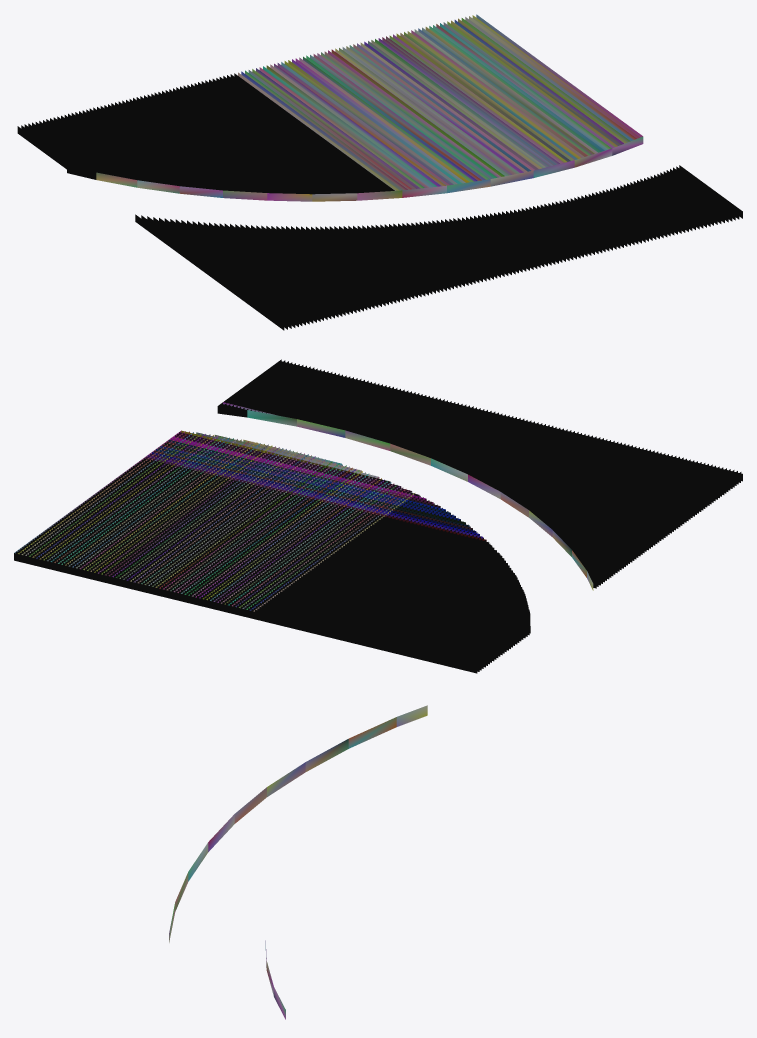
File: Grass_17.gltf
3 renders of one model, top to bottom at view 1: azimuth 30°, elevation 25°; view 2: azimuth 150°, elevation 25°; view 3: azimuth 270°, elevation 25°, orthographic. The views are drawn at different scales.
Parts seen in each view (by area): view 1: Grass_17; view 2: Grass_17; view 3: Grass_17.
Boxes of the visible parts, bbox=[...] form: Grass_17: bbox=[17, 14, 742, 330]; Grass_17: bbox=[14, 359, 742, 673]; Grass_17: bbox=[169, 705, 427, 1019].
Bounding box in the file's own units: 5.12 × 0.1031 × 5.12.
